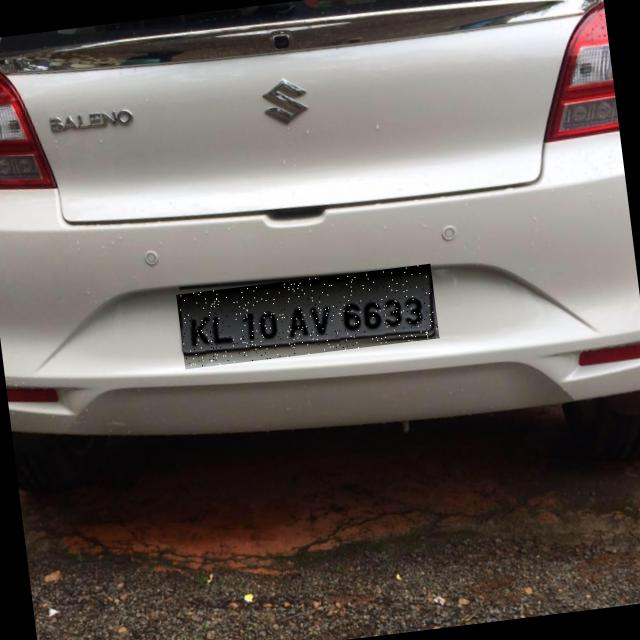Plate: (177, 264, 440, 370)
